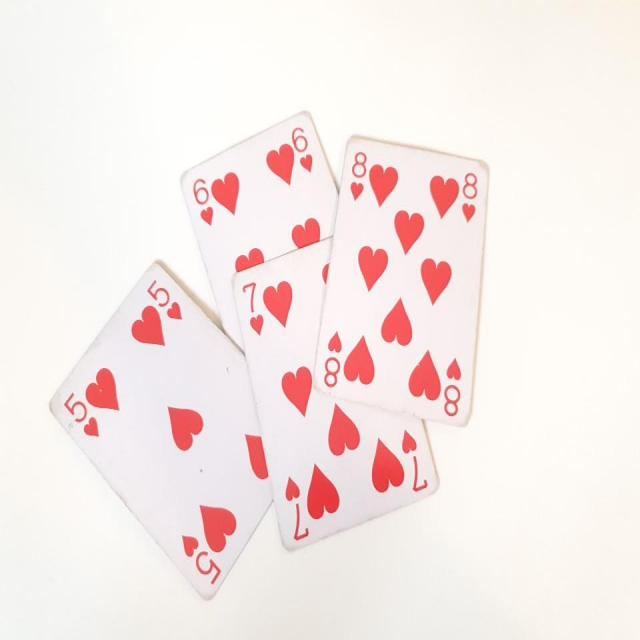5 Hearts: (51, 251, 278, 618)
6 Hearts: (168, 103, 345, 346)
7 Hearts: (227, 235, 448, 550)
8 Hearts: (318, 133, 496, 434)
